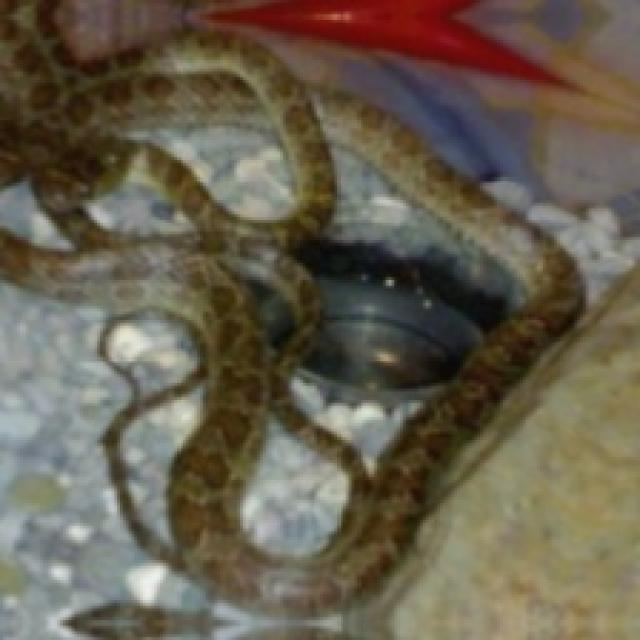mullers wolf snake: (0, 0, 583, 614), (329, 146, 463, 283), (249, 426, 343, 551)
